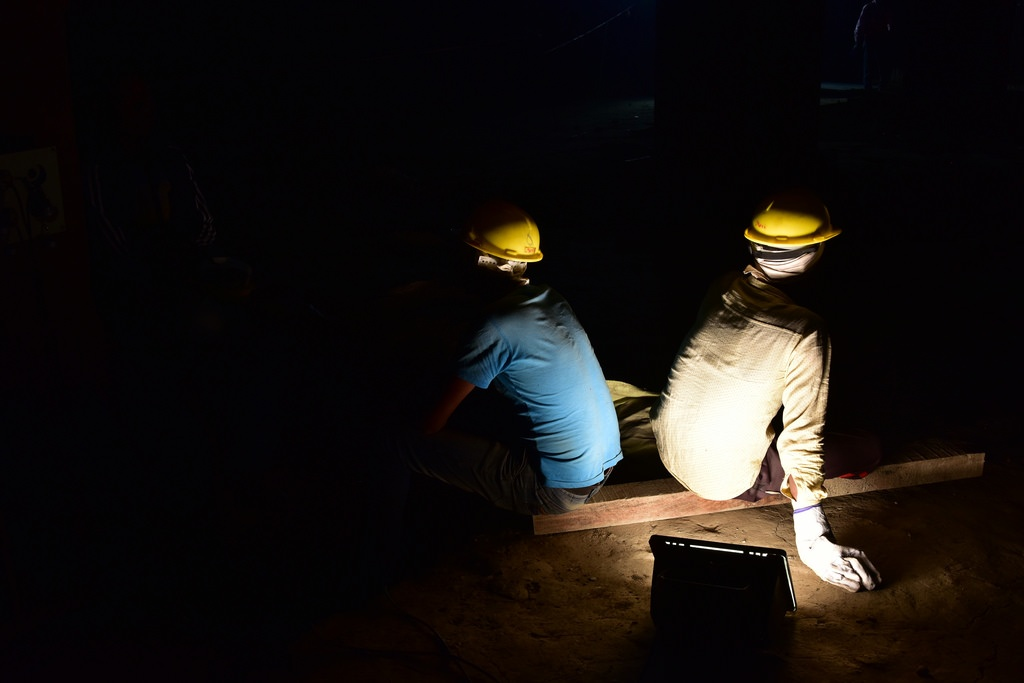yellow: (741, 176, 836, 294), (460, 192, 544, 298)
